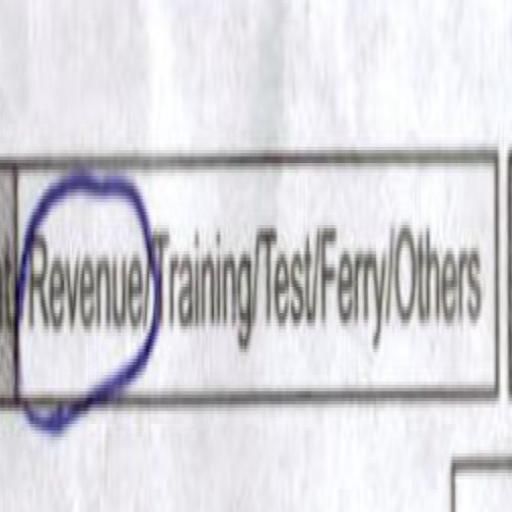check: (18, 121, 156, 463)
